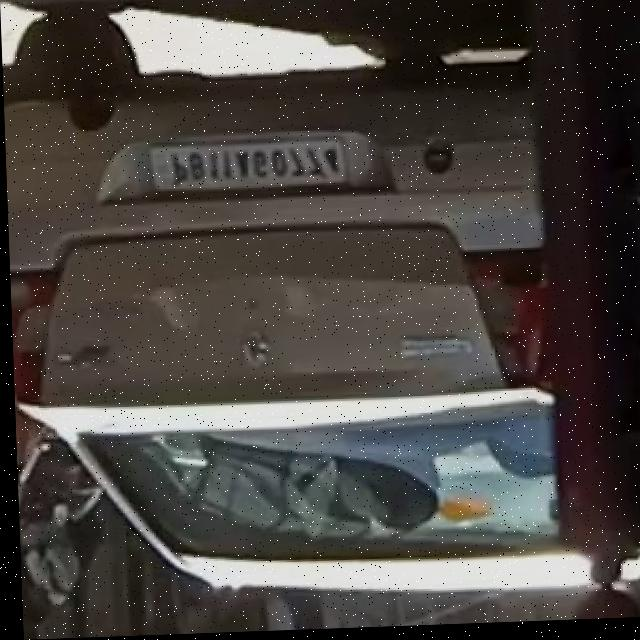plate: (145, 139, 347, 197)
